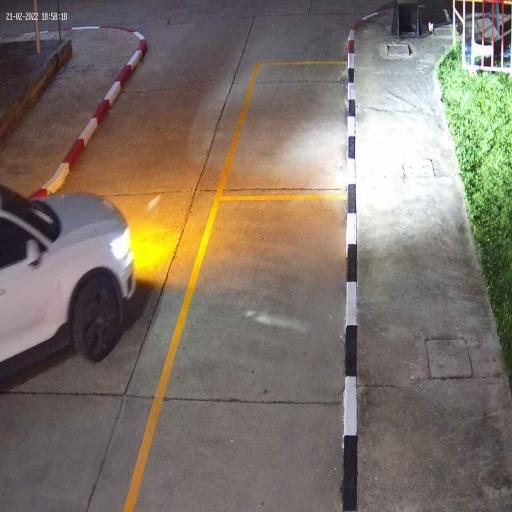car: (0, 184, 134, 374)
